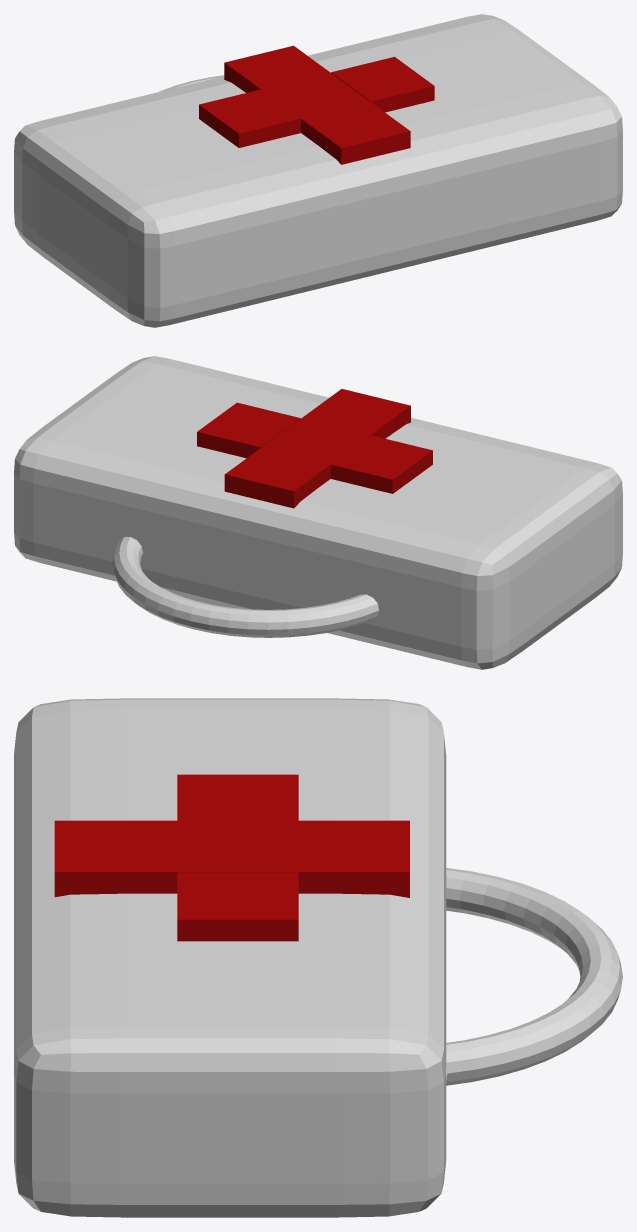
Rendered from Medkit.fbx.
3 views of the same model, one above another, from view 1: azimuth 30°, elevation 25°; view 2: azimuth 150°, elevation 25°; view 3: azimuth 270°, elevation 25° (orthographic). The views are drawn at different scales.
Visible parts, largest first — view 1: Torus; view 2: Torus; view 3: Torus.
Boxes of the visible parts, x1,y1,x2,y2 form: Torus: [14, 14, 622, 327]; Torus: [14, 356, 622, 669]; Torus: [14, 698, 622, 1217].
Bounding box in the file's own units: 396 × 103 × 282.
